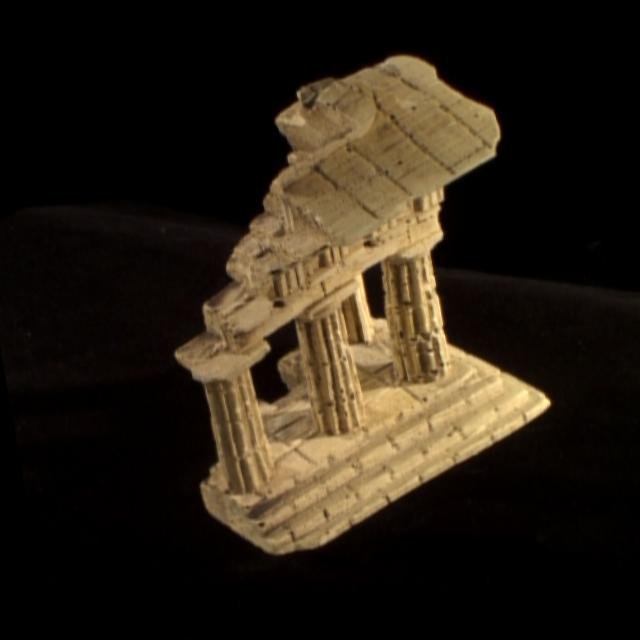Instance-Segmentation: (176, 54, 549, 552)
